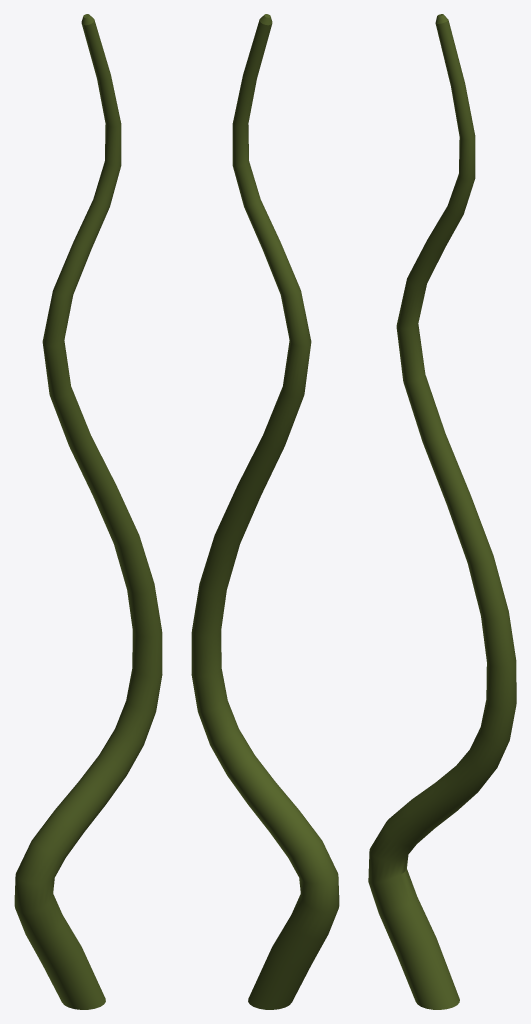
Rendered from Vine2.fbx.
3 views of the same model, side by side, from view 1: azimuth 30°, elevation 25°; view 2: azimuth 150°, elevation 25°; view 3: azimuth 330°, elevation 25° (orthographic).
Parts seen in each view (by area): view 1: Vine_2; view 2: Vine_2; view 3: Vine_2.
Part boxes in pixels (x1,y1,x2,y2): Vine_2: (14, 14, 162, 1009); Vine_2: (191, 14, 339, 1009); Vine_2: (368, 14, 516, 1009).
Bounding box in the file's own units: 0.7519 × 4.94 × 0.2025.
